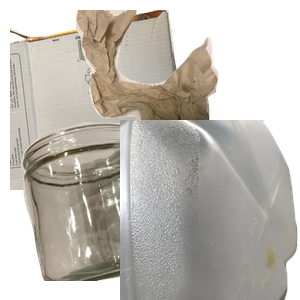cardboard: (10, 10, 191, 190)
glass: (19, 120, 184, 300)
plastic: (120, 120, 300, 300)
trash: (73, 10, 300, 163)
